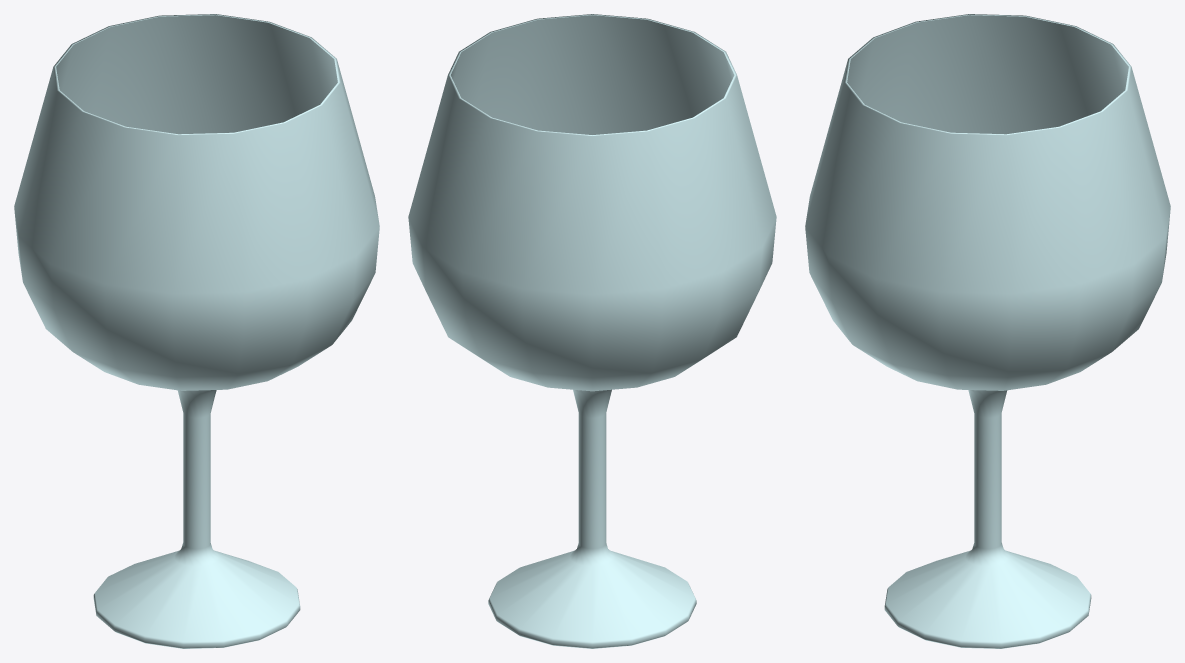
File: Store_1_Glass_of_Wine_1.glb
The picture shows the model from 3 angles, left to right: view 1: azimuth 30°, elevation 25°; view 2: azimuth 150°, elevation 25°; view 3: azimuth 270°, elevation 25°; orthographic projection.
Parts seen in each view (by area): view 1: Store_1_Glass_of_Wine_1; view 2: Store_1_Glass_of_Wine_1; view 3: Store_1_Glass_of_Wine_1.
Part boxes in pixels (x1,y1,x2,y2): Store_1_Glass_of_Wine_1: (14,14,379,648); Store_1_Glass_of_Wine_1: (408,14,776,648); Store_1_Glass_of_Wine_1: (805,14,1170,648).
Bounding box in the file's own units: 0.1784 × 0.2861 × 0.1784.
1 material, 1 textured.
